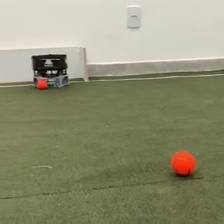ball: (169, 148, 198, 181), (36, 77, 48, 89)
goal: (1, 43, 89, 84)
robot: (30, 52, 71, 89)
